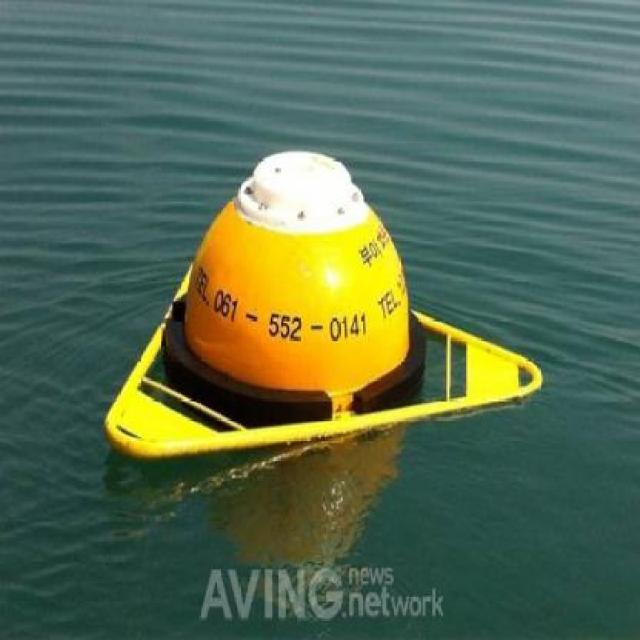buoy: (96, 98, 559, 487)
